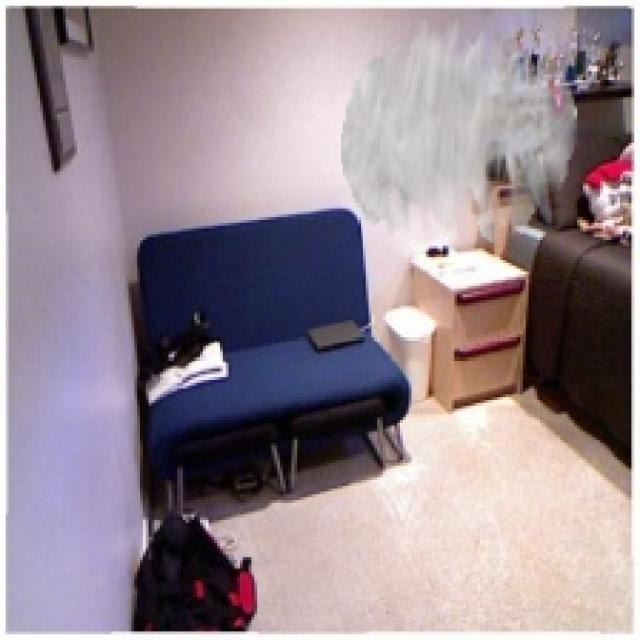Smoke: (340, 14, 577, 243)
